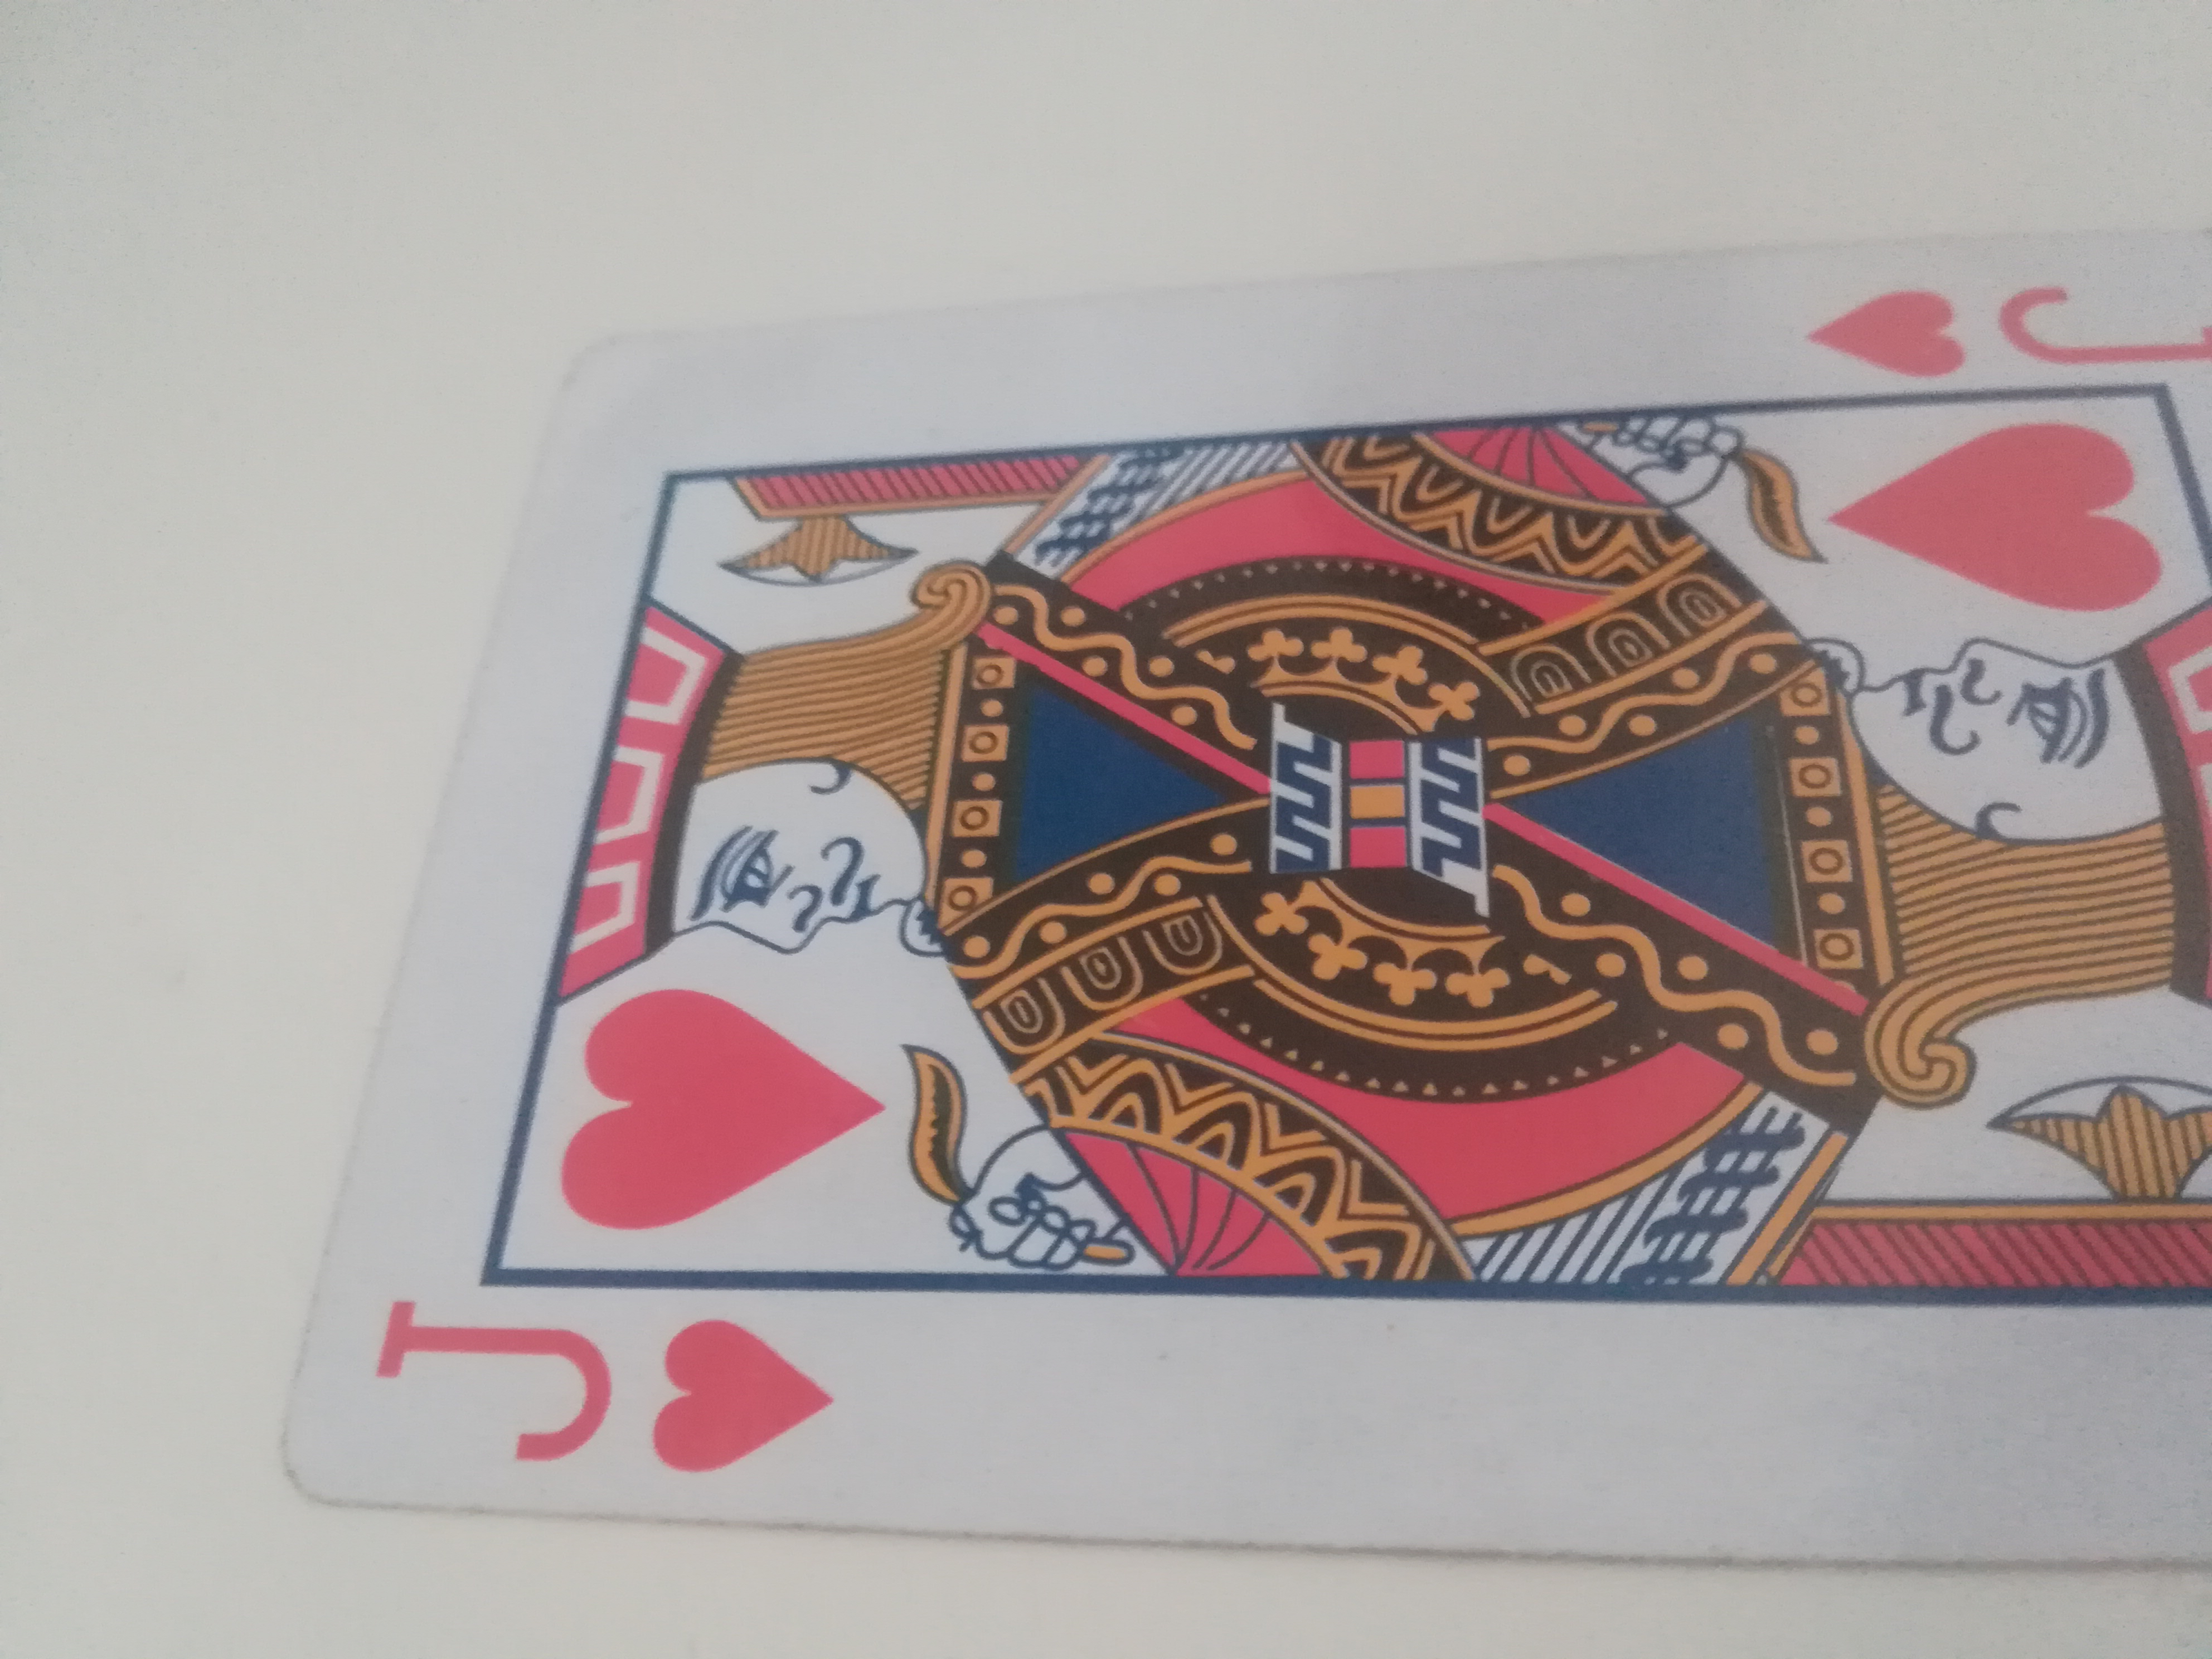JH: (305, 239, 2200, 1577)
